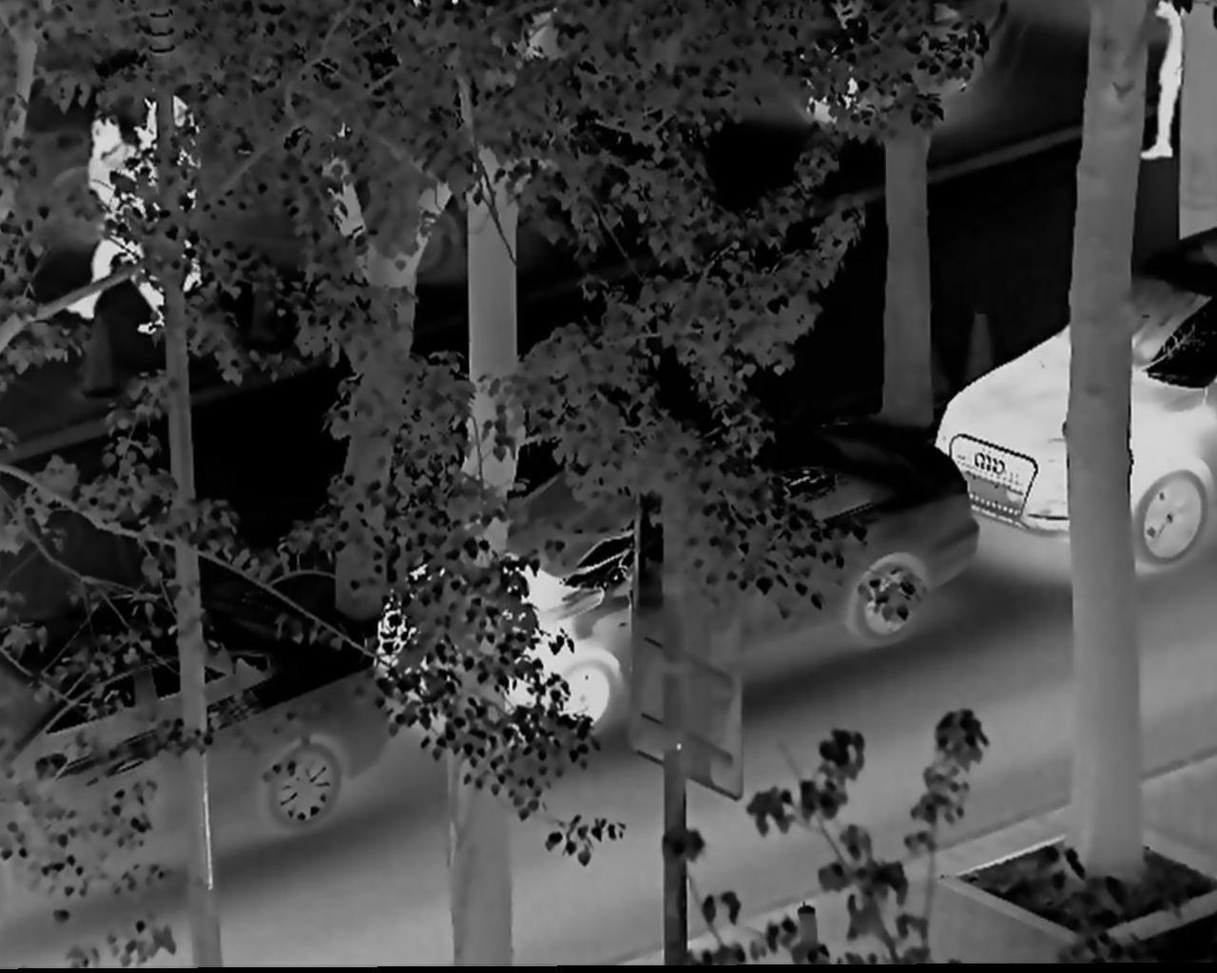person: (63, 96, 163, 339)
